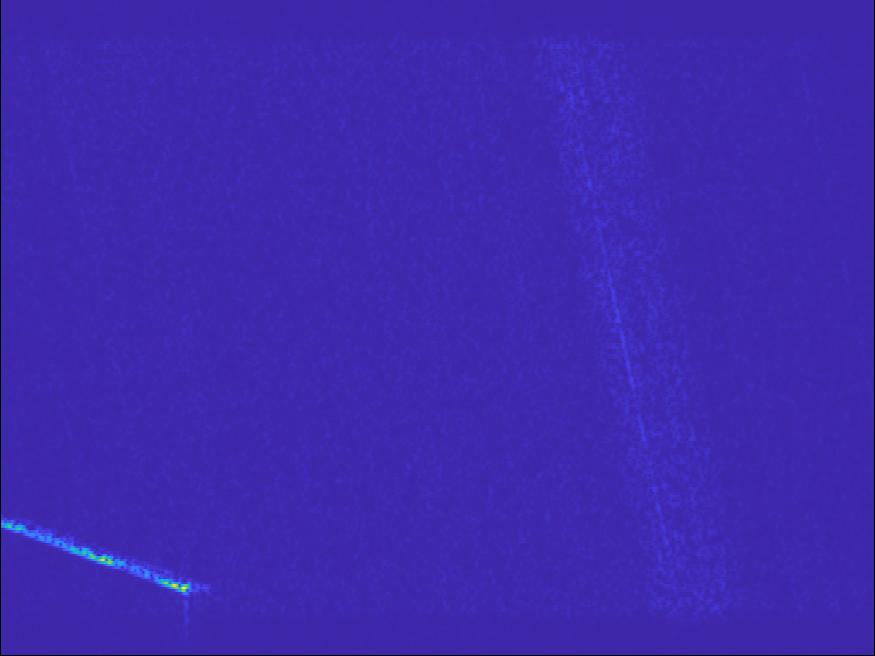Interference: (324, 101, 575, 311), (313, 381, 456, 497), (195, 309, 283, 353), (394, 146, 485, 180)
